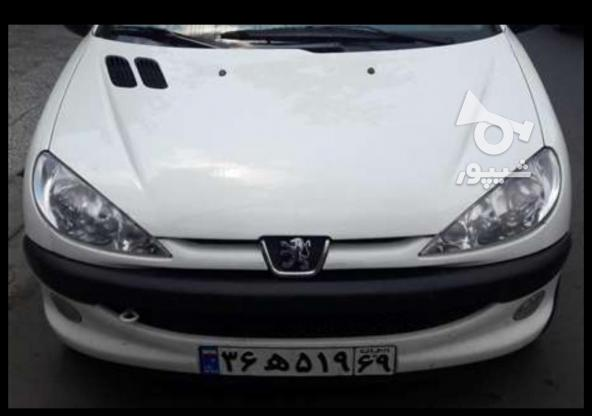car: (196, 343, 399, 381)
